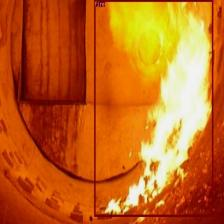fire: (94, 0, 213, 216)
